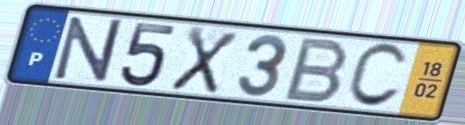3: (234, 32, 289, 99)
5: (116, 19, 180, 89)
B: (280, 35, 353, 105)
C: (343, 41, 411, 111)
N: (52, 15, 126, 84)
X: (166, 23, 242, 96)
